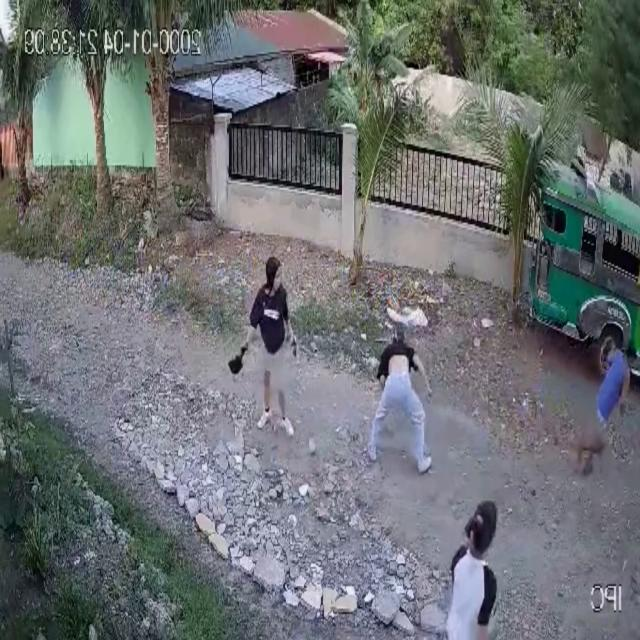running: (566, 334, 639, 482)
walking: (225, 252, 302, 440), (431, 494, 501, 640)
